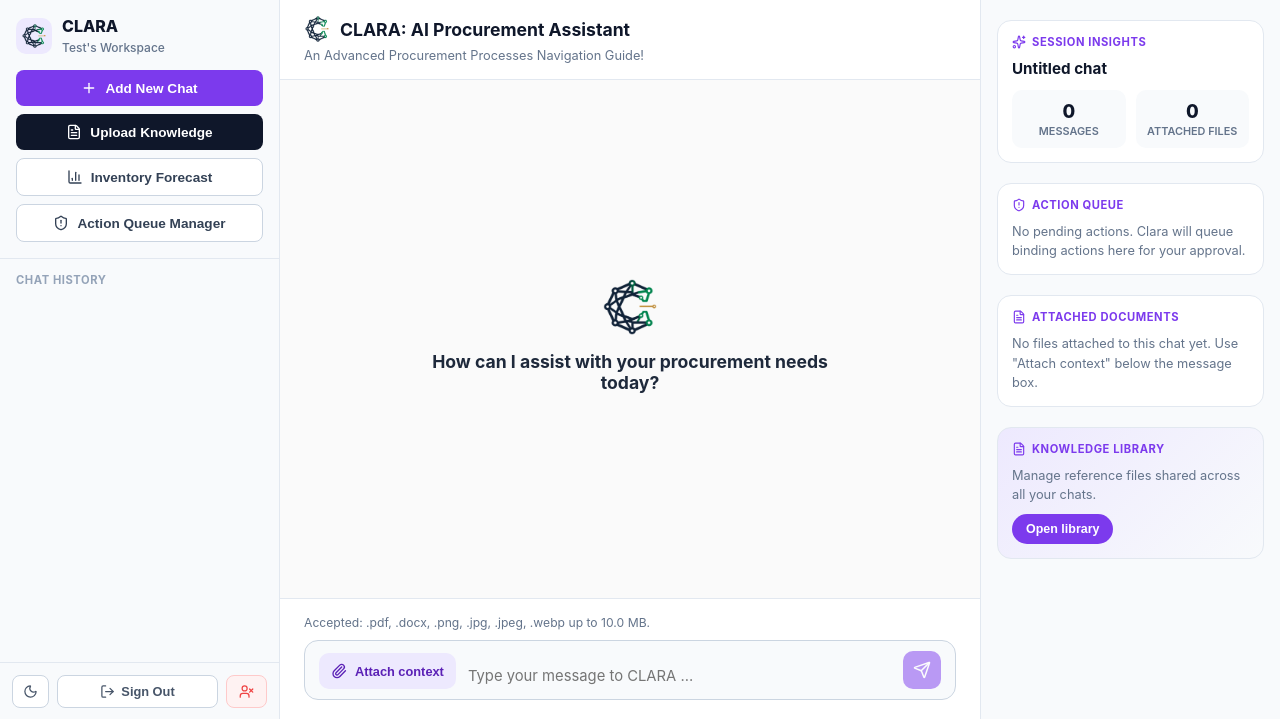
repro action queue bug - full component › renders a new action card in the DOM for each interaction
Type "first message" into the text box with placeholder "Type your message to CLARA ...".
click(679, 676); type("first message")  # box [466, 662, 893, 689]
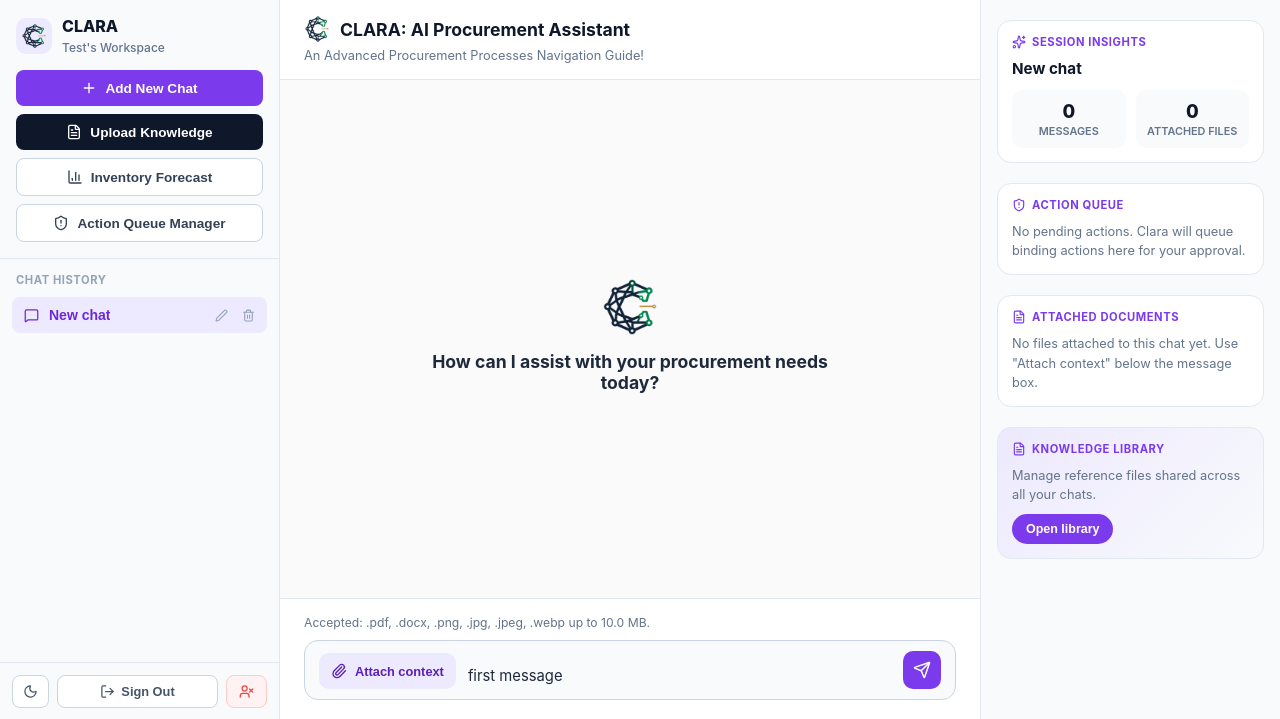
Press Enter in the text box with placeholder "Type your message to CLARA ...", box [466, 662, 893, 689]
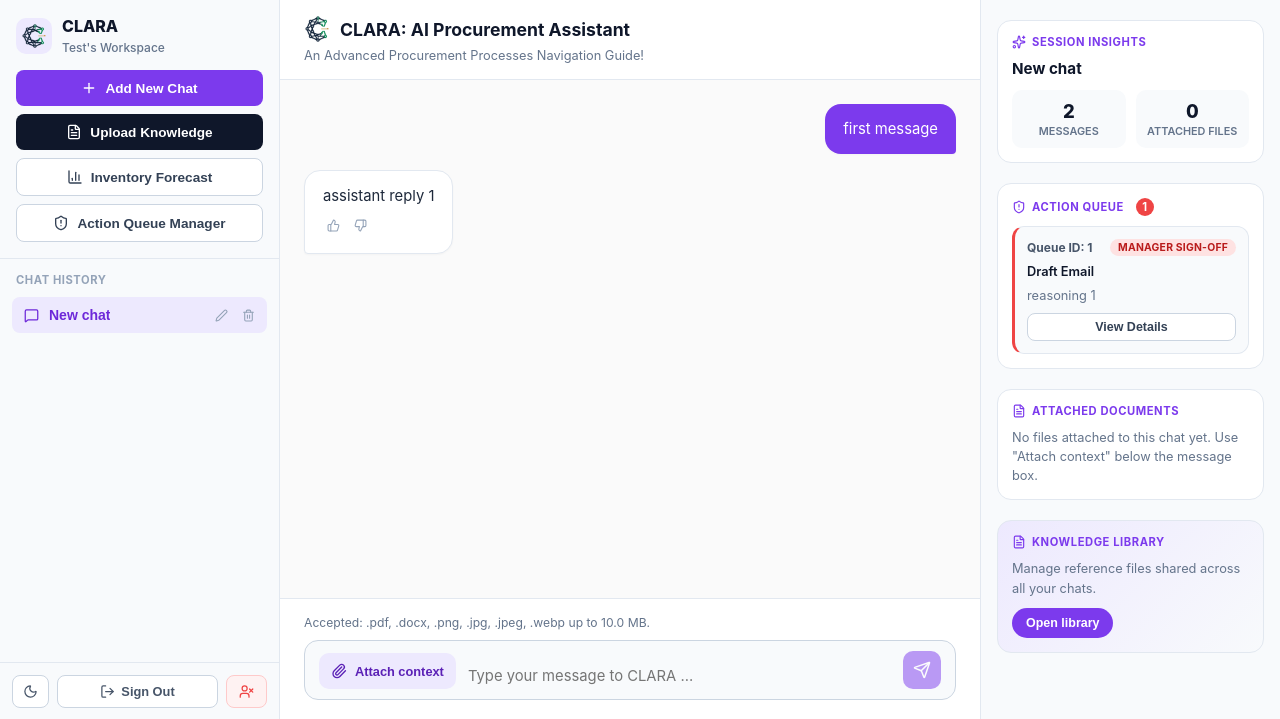
Check: the text "draft email" is shown once, box [1027, 264, 1094, 279]
Type "second message" into the text box with placeholder "Type your message to CLARA ...".
click(679, 676); type("second message")  # box [466, 662, 893, 689]
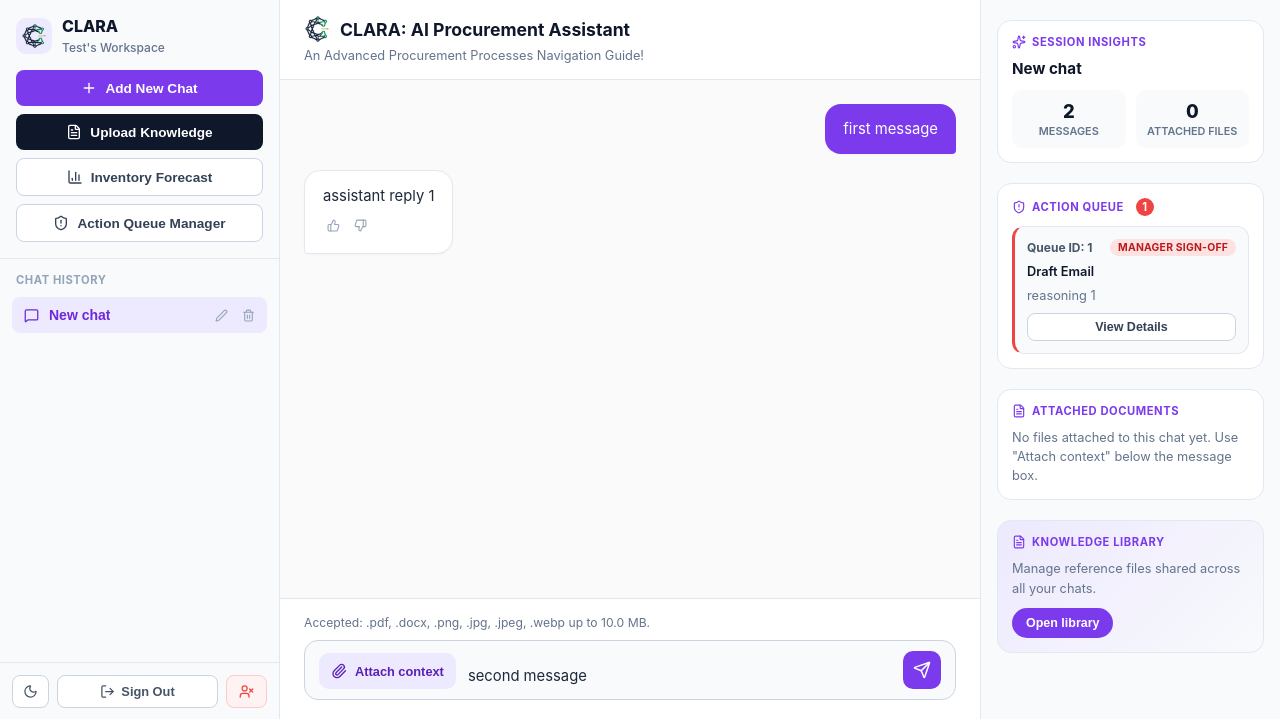
Press Enter in the text box with placeholder "Type your message to CLARA ...", box [466, 662, 893, 689]
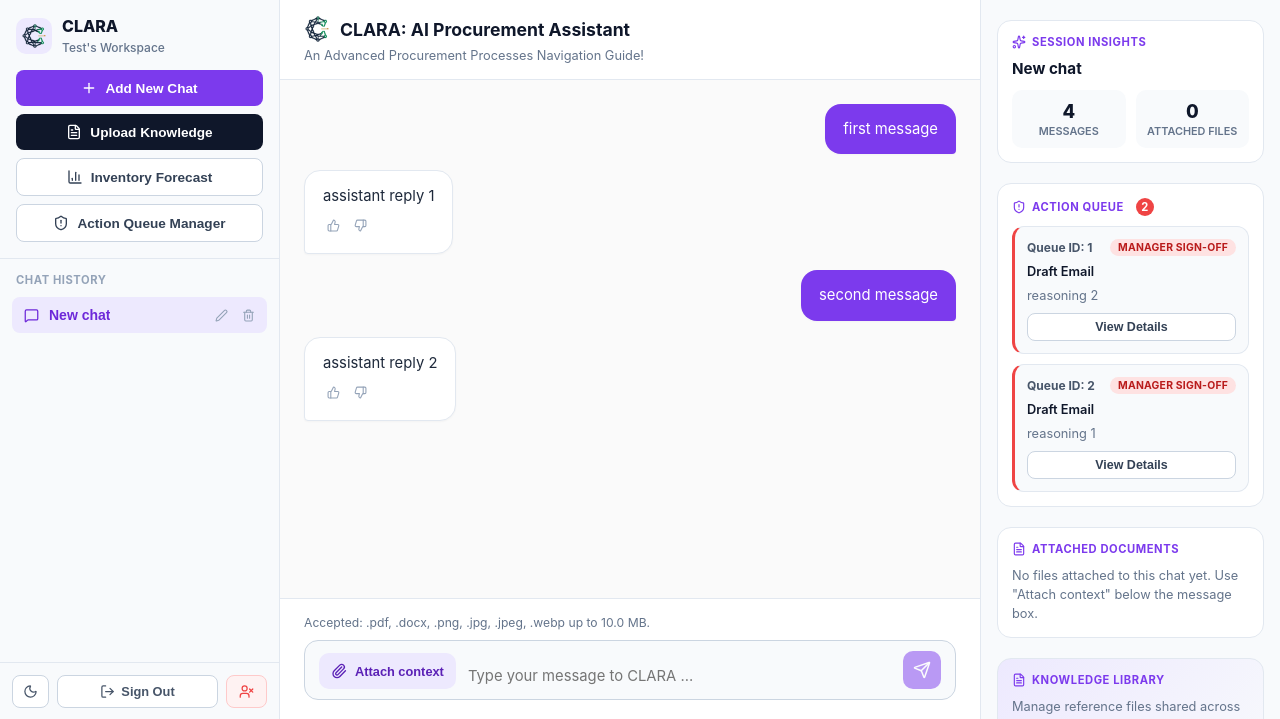
Check: the text "draft email" is shown 2 times, box [1027, 264, 1094, 279]; [1027, 402, 1094, 417]
